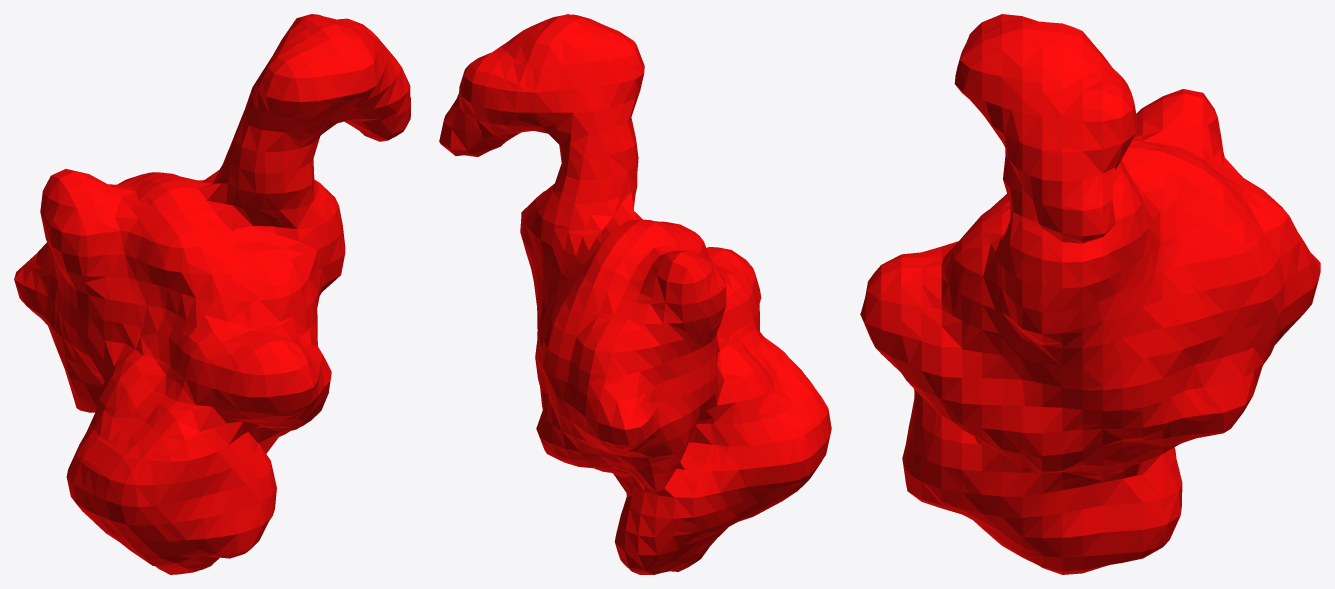
The model's file is mlaF_coarse.dae.
3 views of the same model, side by side, from view 1: azimuth 30°, elevation 25°; view 2: azimuth 150°, elevation 25°; view 3: azimuth 270°, elevation 25° (orthographic). The views are drawn at different scales.
Parts seen in each view (by area): view 1: mlaF; view 2: mlaF; view 3: mlaF.
Boxes of the visible parts, left/top/right/bottom form: mlaF: left=14, top=14, right=410, bottom=574; mlaF: left=439, top=14, right=831, bottom=574; mlaF: left=860, top=14, right=1320, bottom=574.
Bounding box in the file's own units: 58.77 × 82.26 × 55.07.
